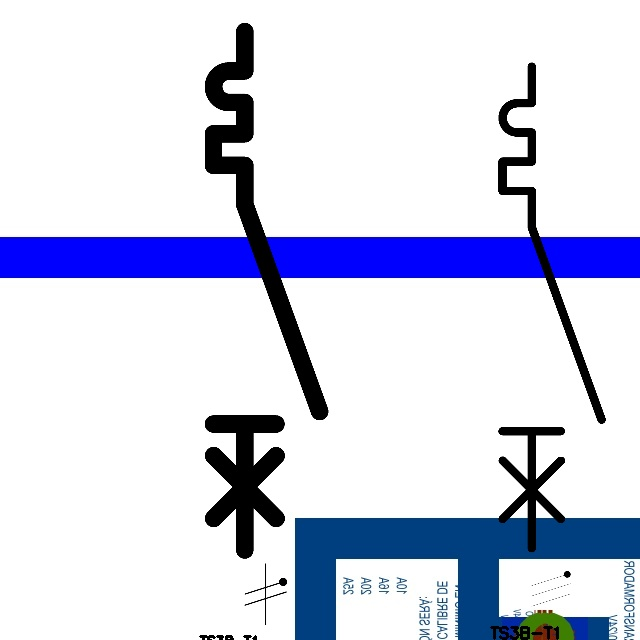interruptor_termomagnetico: (200, 18, 333, 563), (490, 54, 614, 561)
